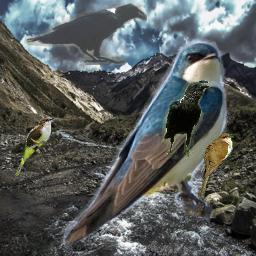Crow: (24, 2, 147, 65), (162, 78, 211, 159)
Cuckoo: (198, 133, 234, 200), (15, 117, 55, 176)
Swallow: (56, 34, 234, 249)
